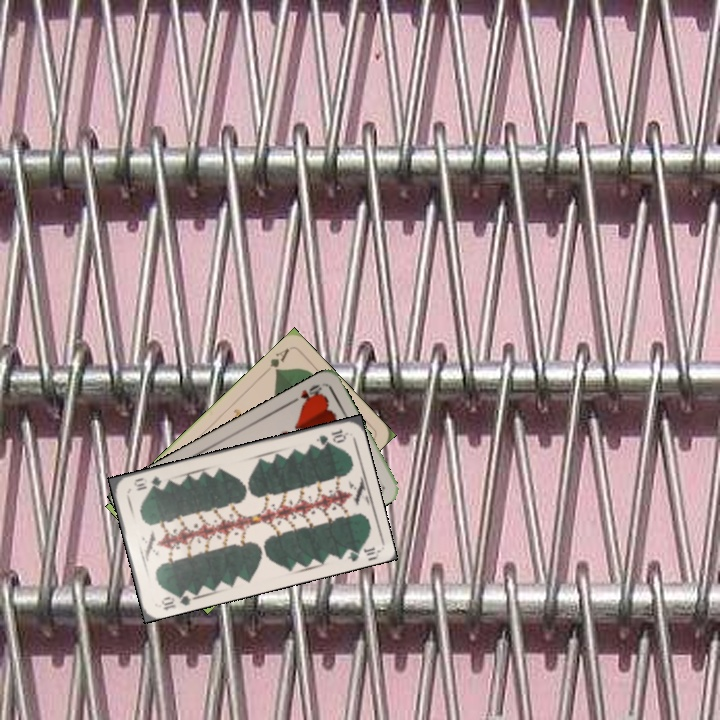G10: (157, 586, 196, 613), (312, 424, 349, 448)
GA: (265, 344, 292, 375)
HO: (288, 380, 325, 408)
